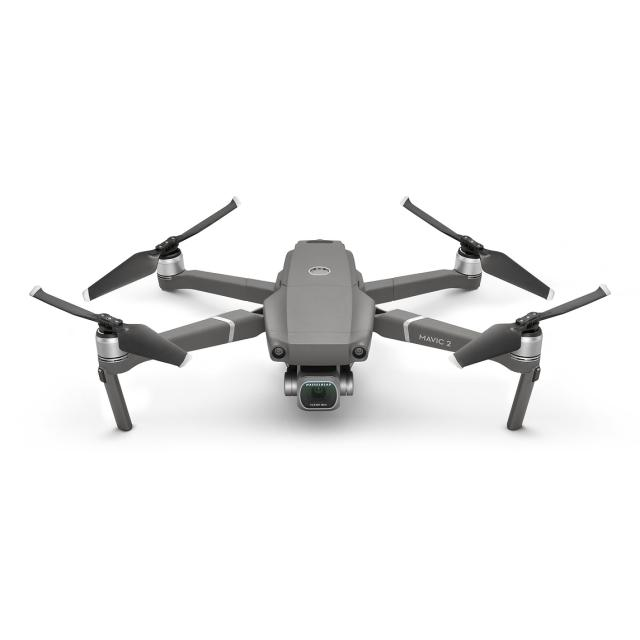drone: (29, 181, 625, 473)
